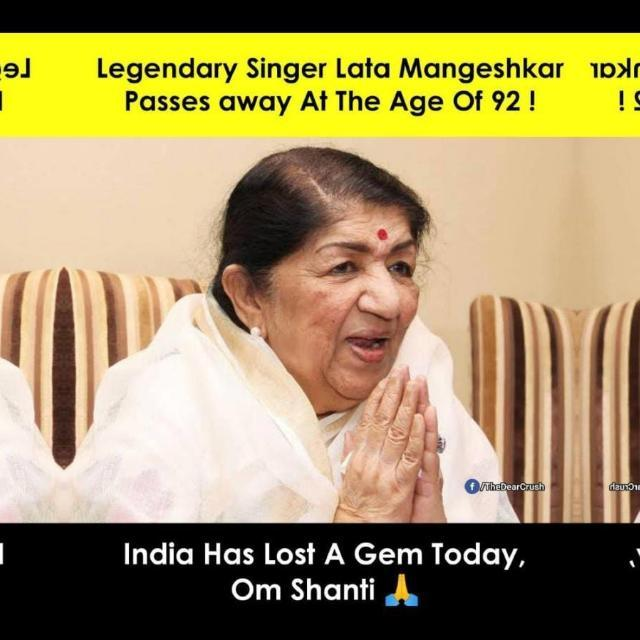person: (102, 133, 534, 533), (0, 133, 24, 533), (618, 133, 640, 533)
